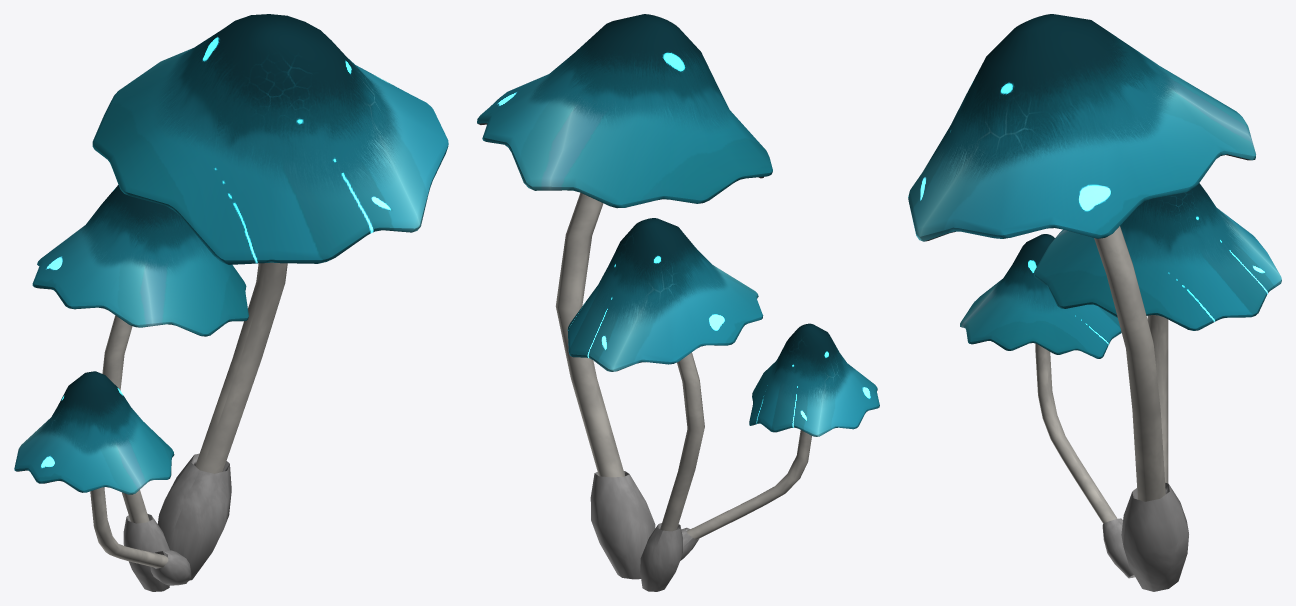
Rendered from mushroom_glowing.glb.
3 renders of one model, left to right at view 1: azimuth 30°, elevation 25°; view 2: azimuth 150°, elevation 25°; view 3: azimuth 270°, elevation 25°, orthographic. The views are drawn at different scales.
Visible parts, largest first — view 1: pCone4, pCone2, pCone3; view 2: pCone4, pCone2, pCone3; view 3: pCone4, pCone2, pCone3.
Boxes of the visible parts, x1=… form: pCone4: x1=92, y1=14, x2=448, y2=580; pCone2: x1=32, y1=185, x2=248, y2=591; pCone3: x1=14, y1=371, x2=191, y2=585; pCone4: x1=477, y1=14, x2=772, y2=579; pCone2: x1=567, y1=218, x2=763, y2=591; pCone3: x1=680, y1=323, x2=879, y2=560; pCone4: x1=908, y1=14, x2=1255, y2=591; pCone2: x1=1034, y1=183, x2=1281, y2=483; pCone3: x1=960, y1=234, x2=1134, y2=578.
Bounding box in the file's own units: 5.28 × 7.16 × 4.11.
1 material, 1 textured.
